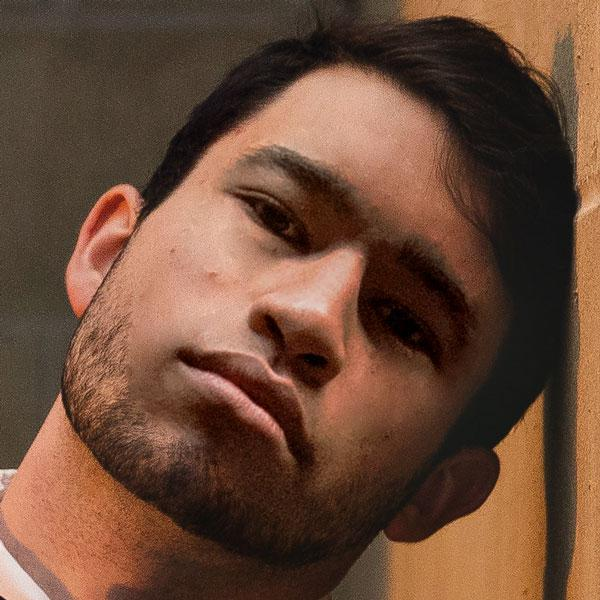Eyes: (218, 176, 318, 258), (364, 283, 446, 374)
